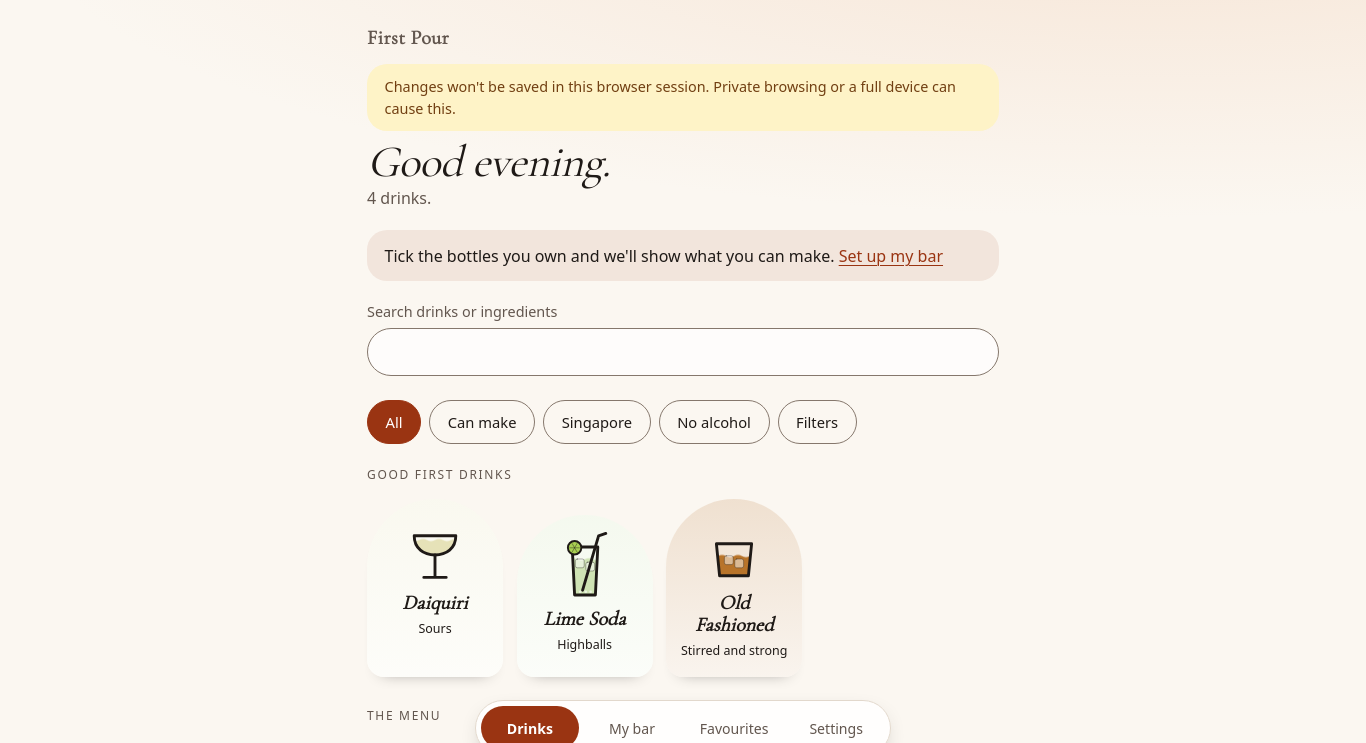
Test: counts the filters in use on the button, so a closed panel does not hide them
This screenshot has width=1366, height=743.
Click the button "Filters" at (817,422), box [778,400,857,444]
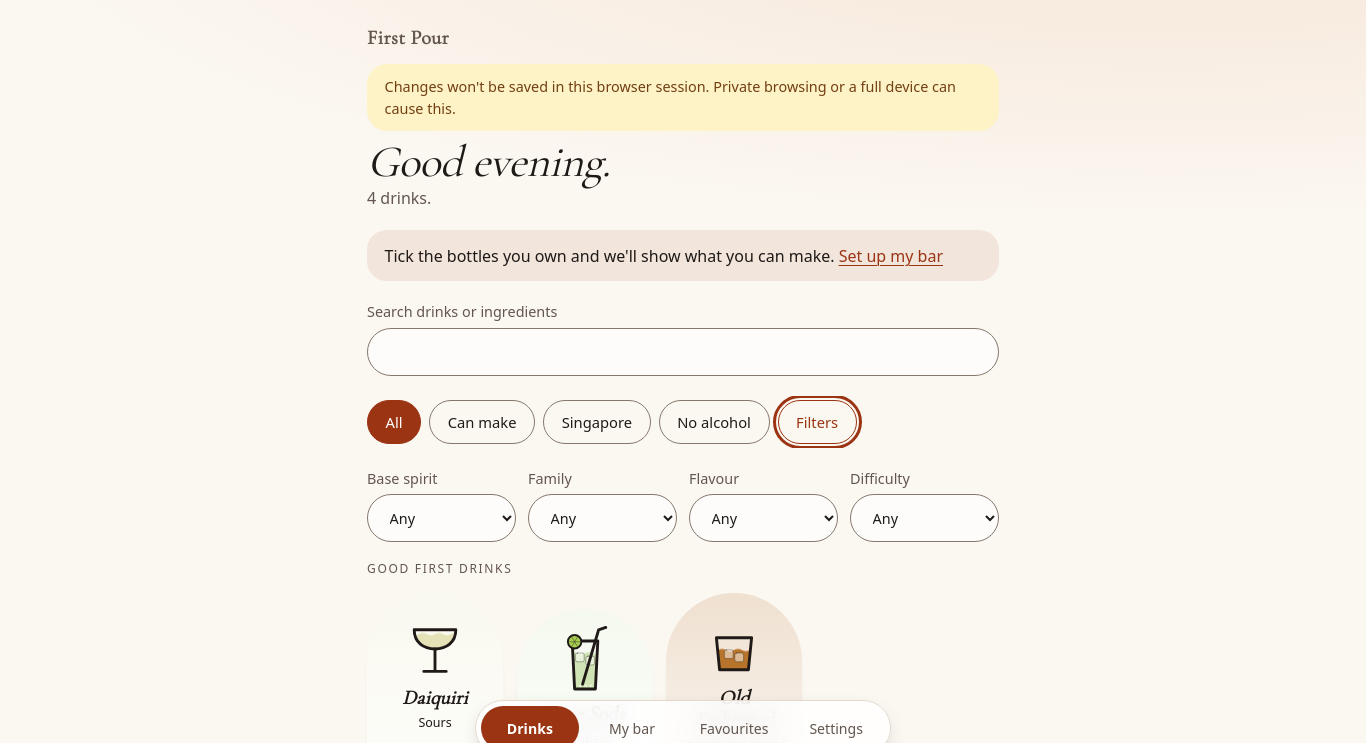
Select "Sours" in the dropdown labelled "Family" at (602,518), box [528,494,677,542]
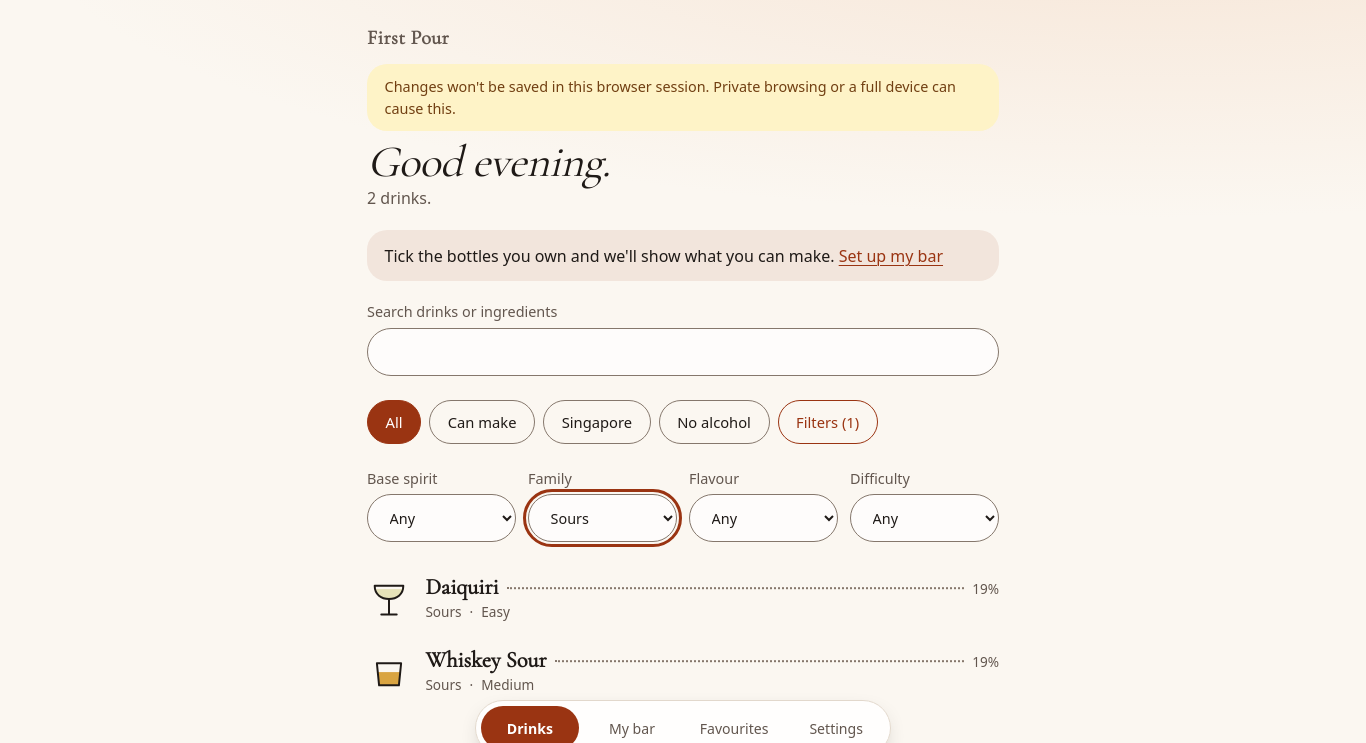
Select "Easy" in the dropdown labelled "Difficulty" at (924,518), box [850,494,999,542]
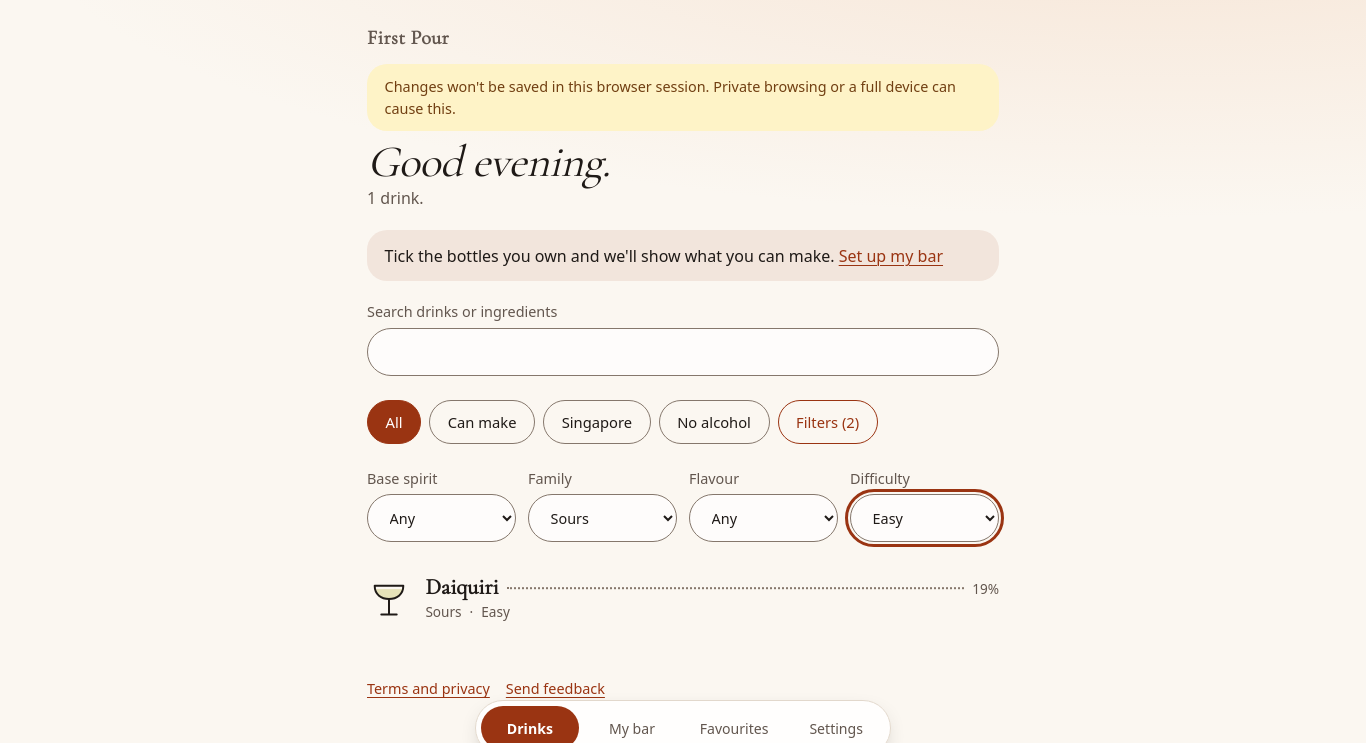
Click the button "Filters (2)" at (828,422), box [778,400,878,444]
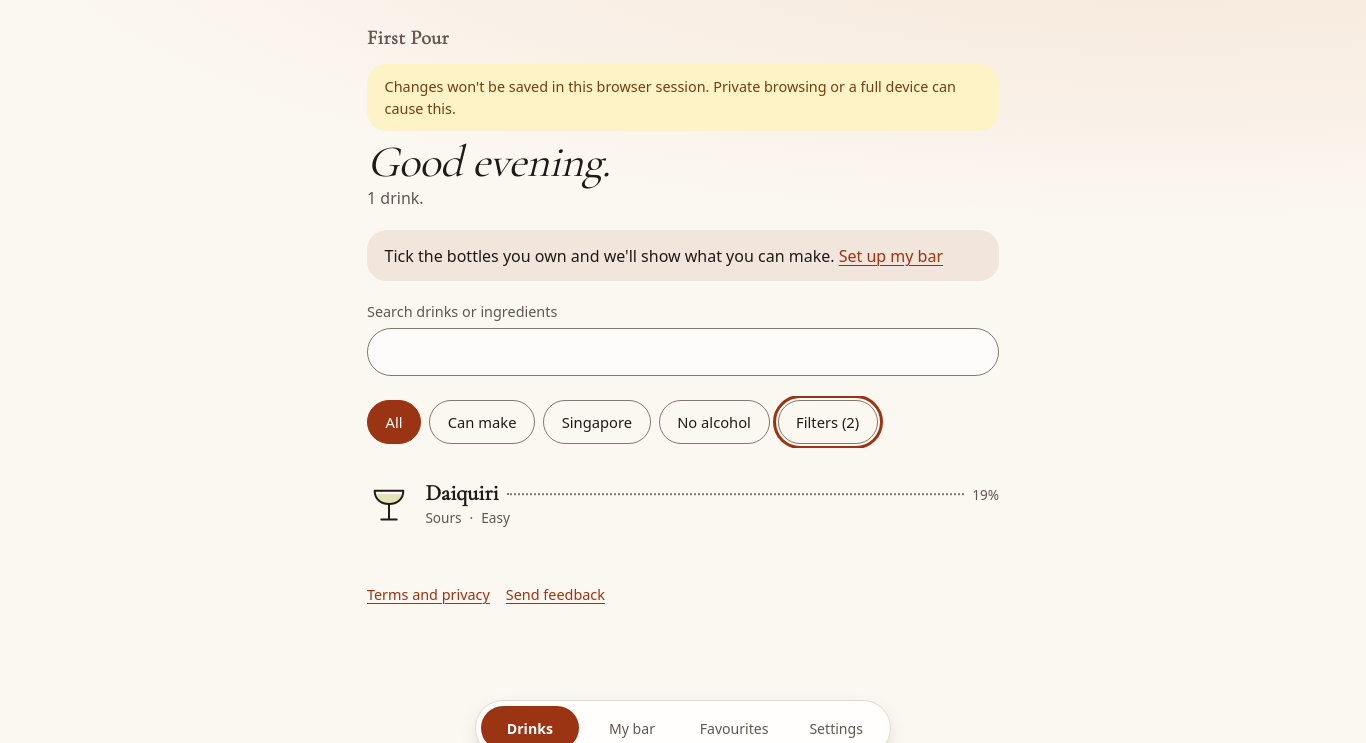
Expected: the button "Filters (2)" is collapsed, [778,400,878,444]
